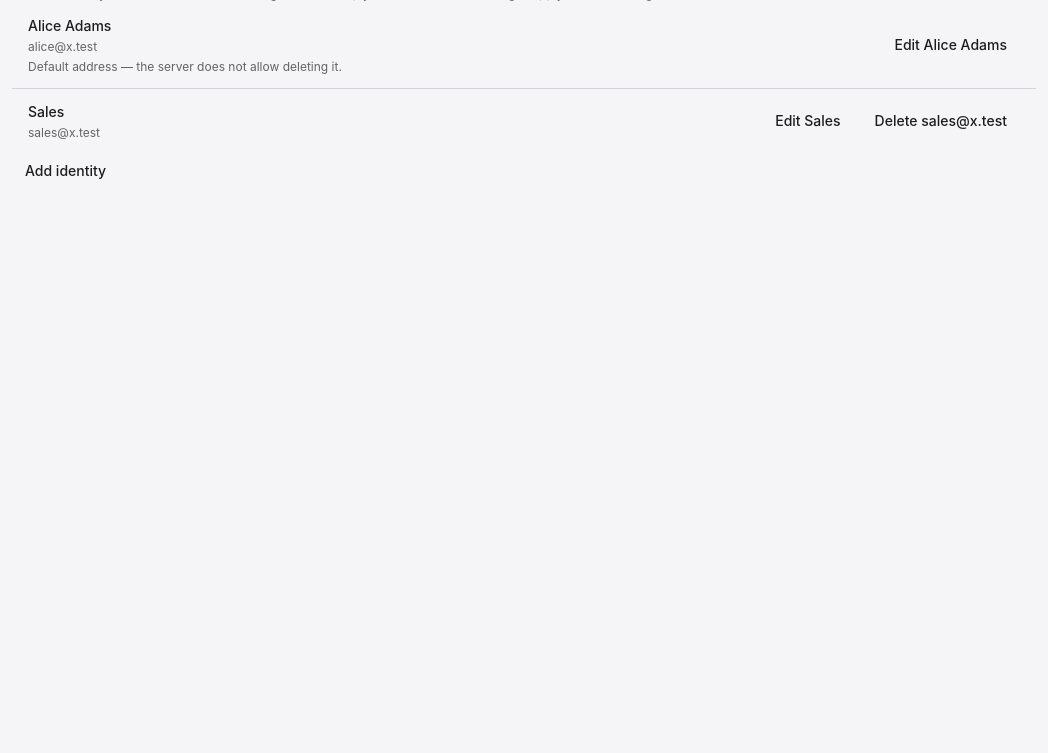
Test: <IdentitiesSection> › says what to do when the address is not one the account owns
Click the button "Add identity" at (66, 171), box [12,154,119,188]
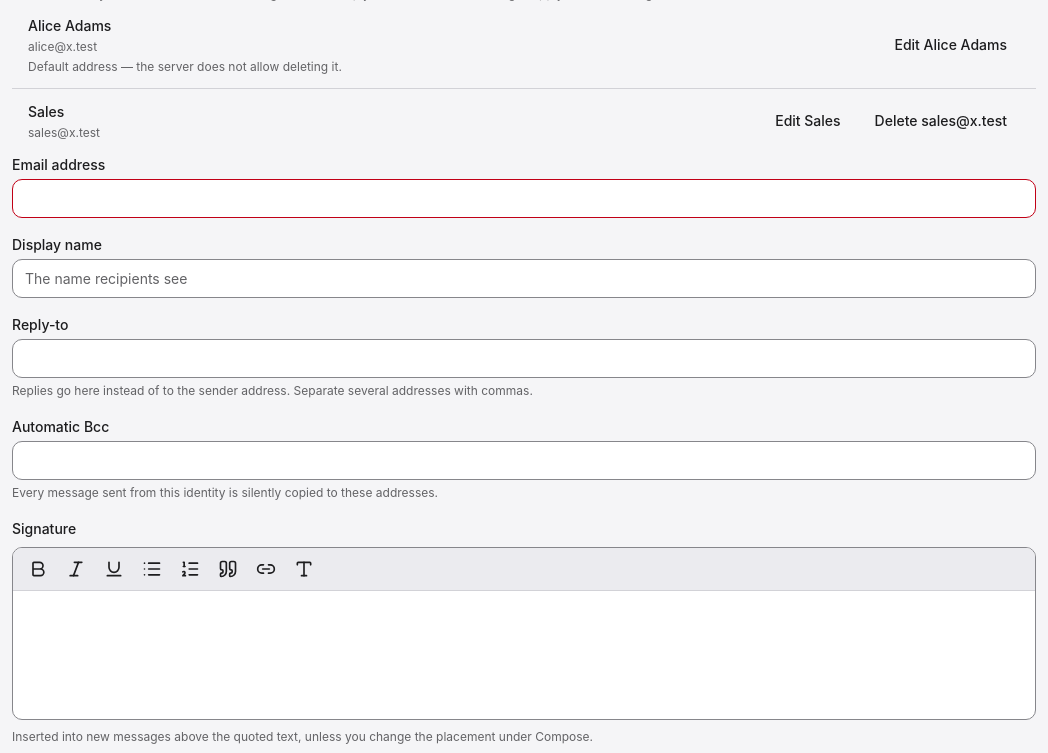
Now the button named "Bold" is enabled, box [21,552,55,586]
Type "someone@elsewhere.test" into the field labelled "Email address" at (524, 198), box [12,179,1036,218]
(page scrolled)
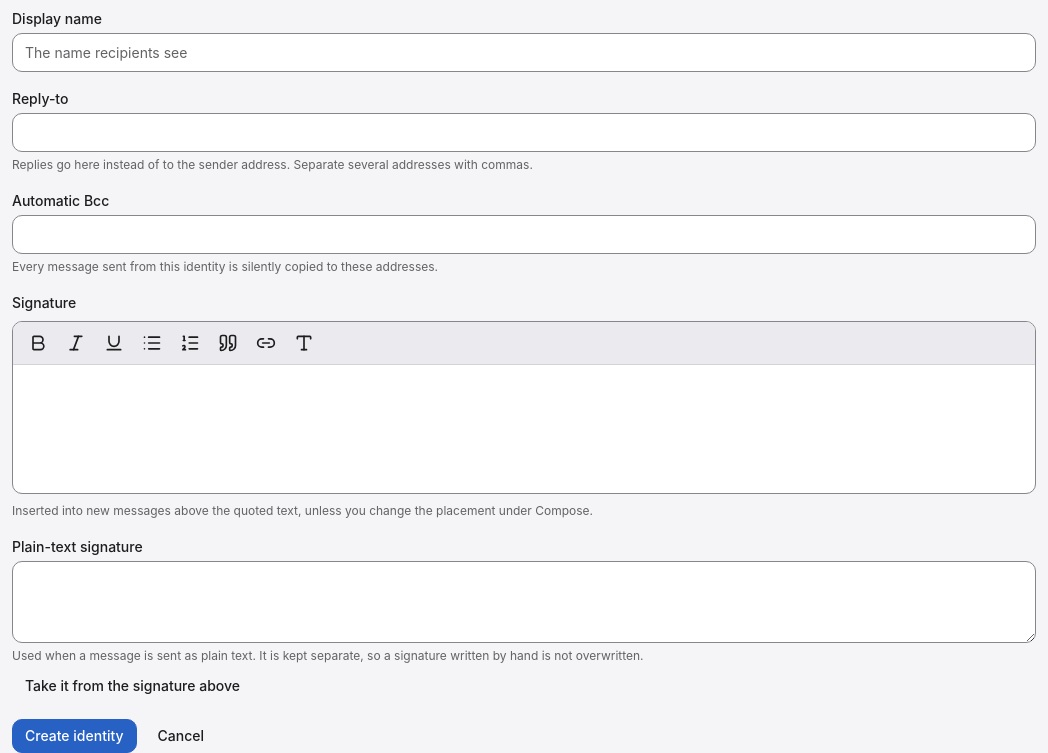
Click the button "Create identity" at (74, 736), box [12,719,136,752]
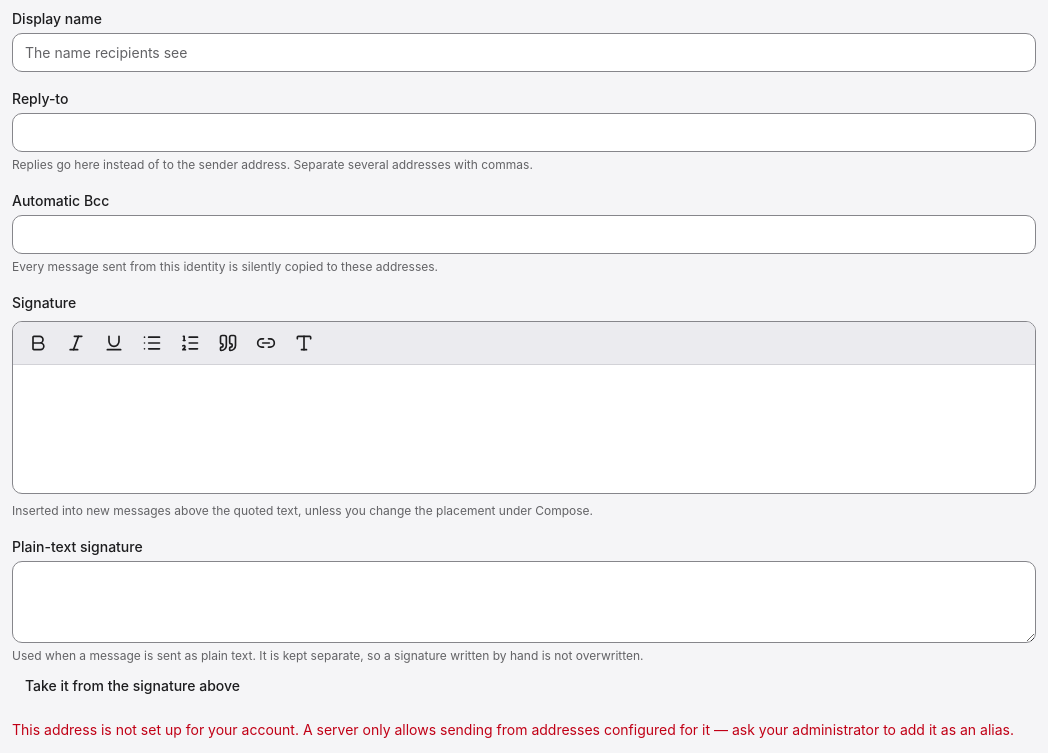
Now the message shows "not set up for your account", box [12,721,1014,738]
